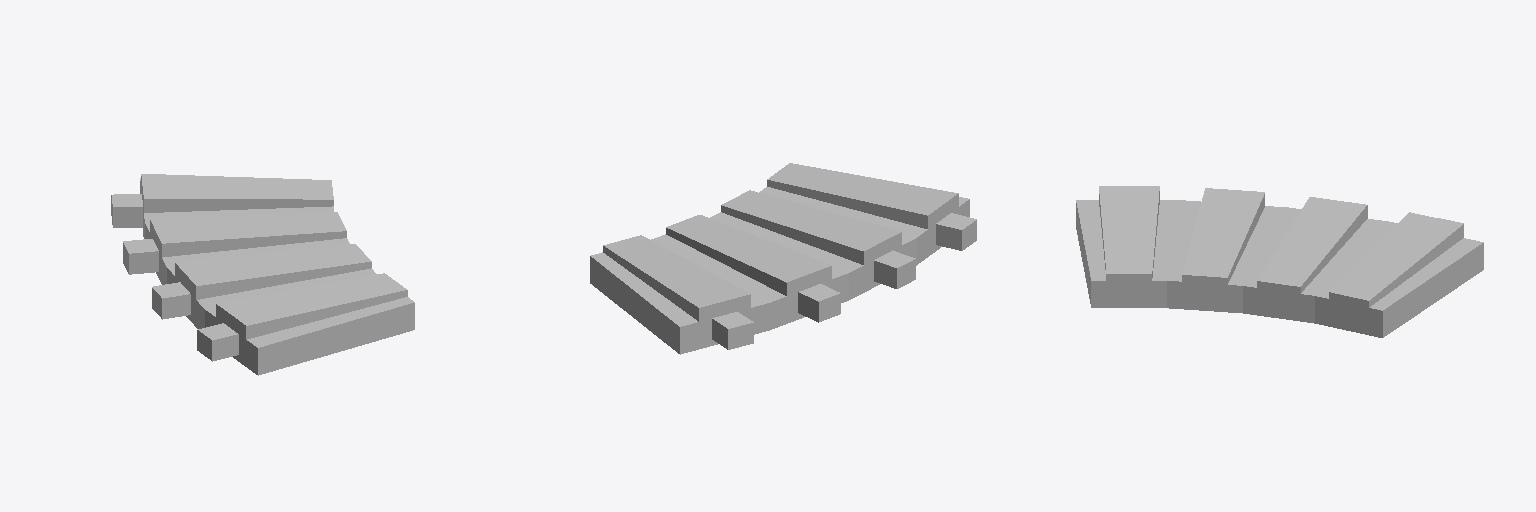
Rendered from meatRibs.obj.
The picture shows the model from 3 angles: view 1: azimuth 30°, elevation 25°; view 2: azimuth 150°, elevation 25°; view 3: azimuth 270°, elevation 25°; orthographic projection.
Visible parts, largest first — view 1: meatRibs; view 2: meatRibs; view 3: meatRibs.
Part boxes in pixels (bbox=[...]): meatRibs: bbox=[111, 174, 414, 375]; meatRibs: bbox=[590, 163, 976, 354]; meatRibs: bbox=[1076, 186, 1483, 337].
Size of the model in its own units: 0.3834 by 0.06 by 0.5354.